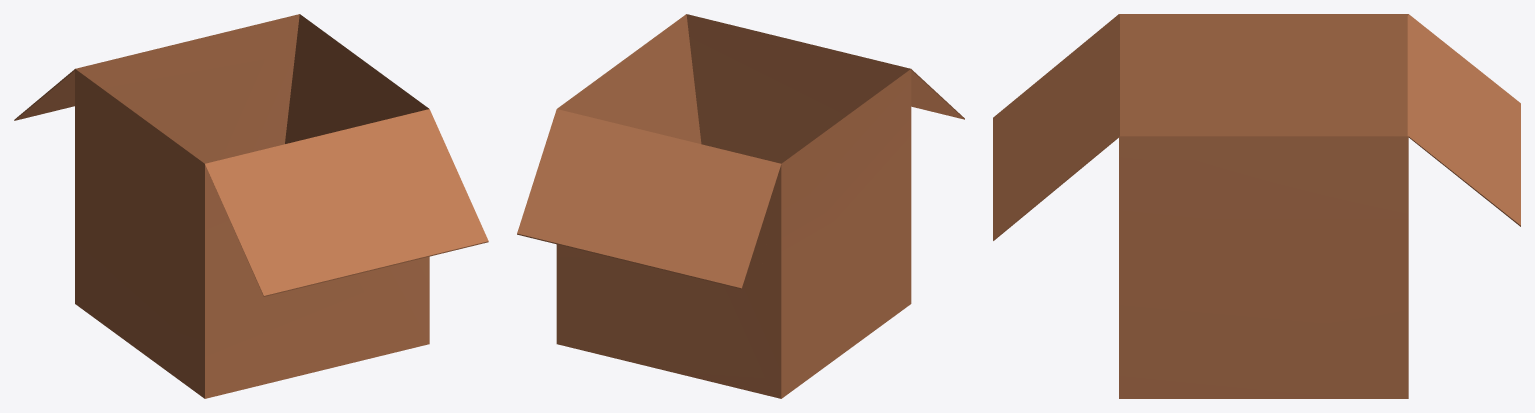
The model's file is garbageBox2.fbx.
3 renders of one model, left to right at view 1: azimuth 30°, elevation 25°; view 2: azimuth 150°, elevation 25°; view 3: azimuth 270°, elevation 25°, orthographic. The views are drawn at different scales.
Parts seen in each view (by area): view 1: box; view 2: box; view 3: box.
Part boxes in pixels (left/top/right/bottom): box: left=14, top=14, right=488, bottom=398; box: left=517, top=14, right=964, bottom=398; box: left=993, top=14, right=1520, bottom=398.
Size of the model in its own units: 212 by 200 by 364.
Materials: 1 (1 with a texture image).
